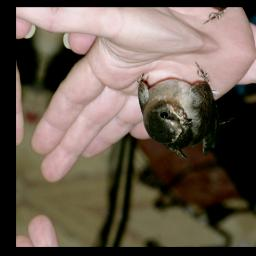Swallow: (123, 46, 248, 171)
